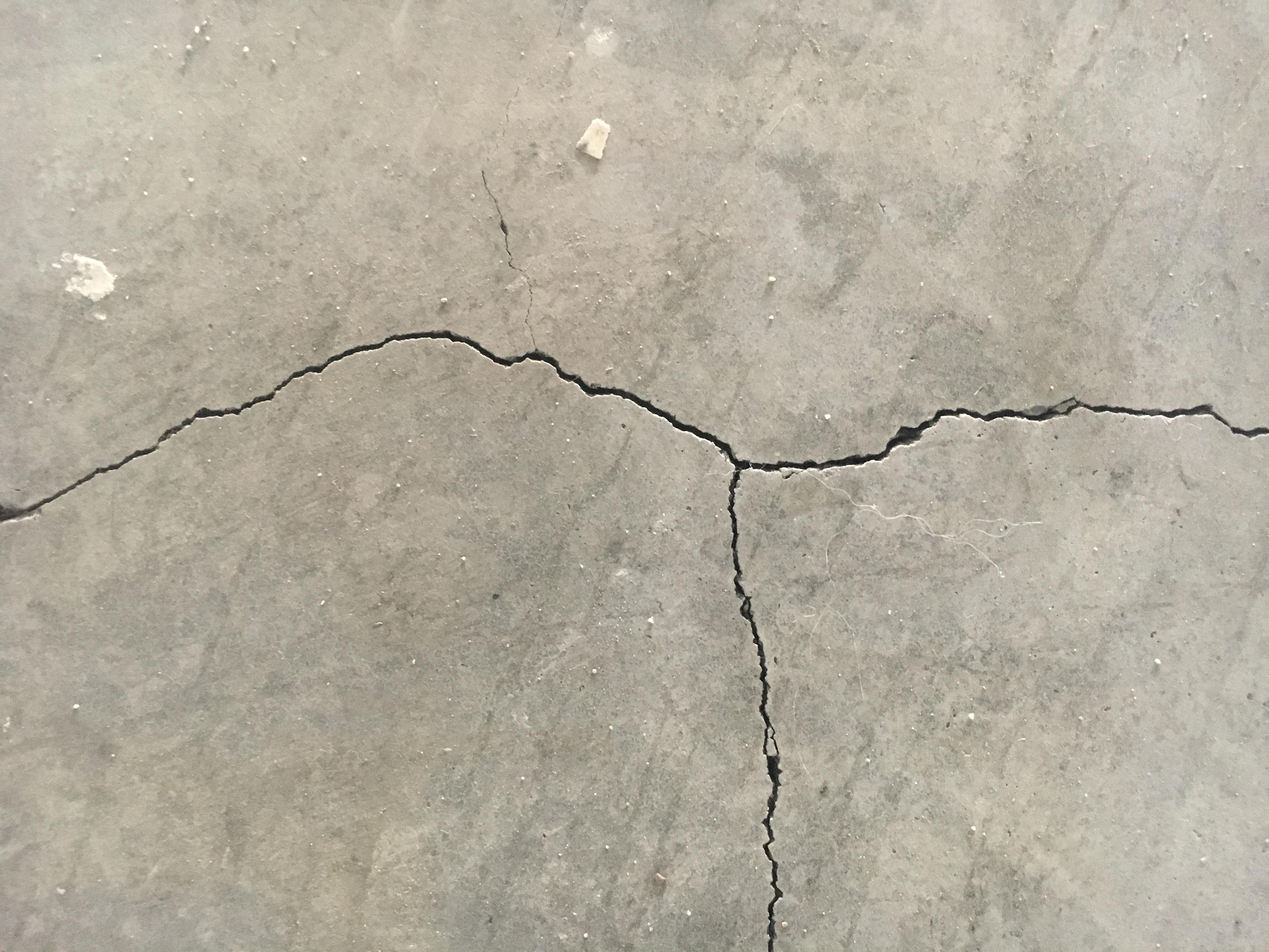Structural-Crack: (4, 324, 1266, 947)
